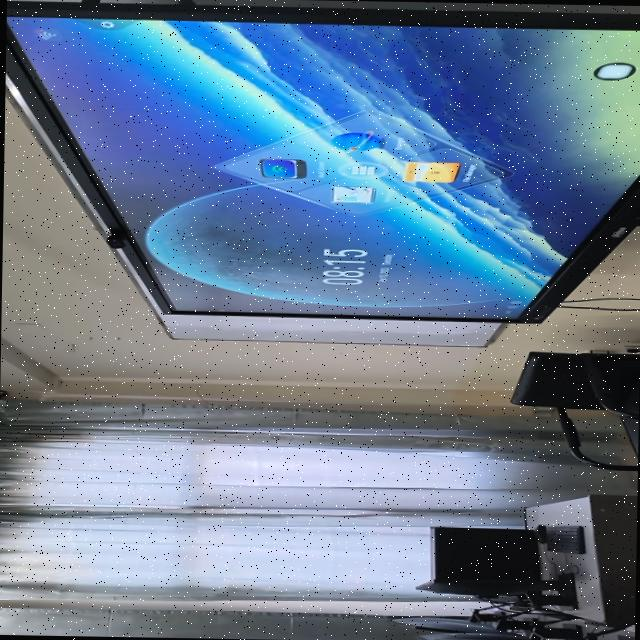Chair: (510, 351, 639, 473)
Cpu: (430, 527, 539, 581)
Digital board: (4, 1, 640, 323)
Keyboard: (543, 526, 583, 554)
Monitor: (415, 573, 575, 608), (402, 619, 519, 631), (411, 631, 540, 640), (390, 614, 474, 622)
Mouse: (532, 524, 545, 543)
